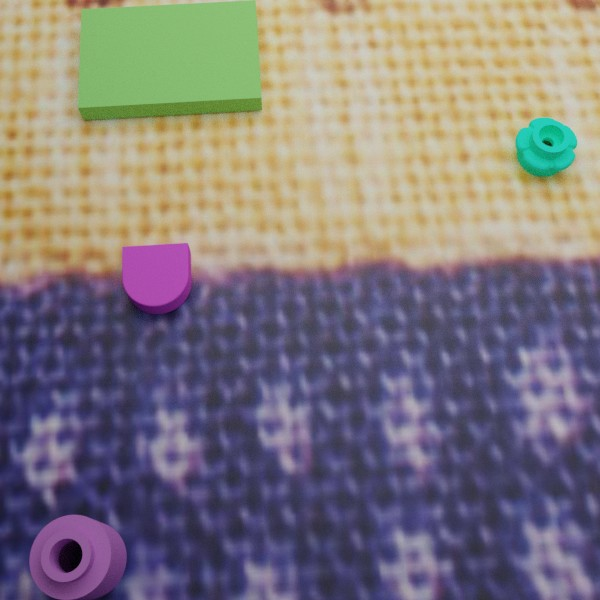lego: (77, 0, 262, 119), (29, 514, 126, 600), (122, 242, 191, 314), (515, 117, 577, 176)
